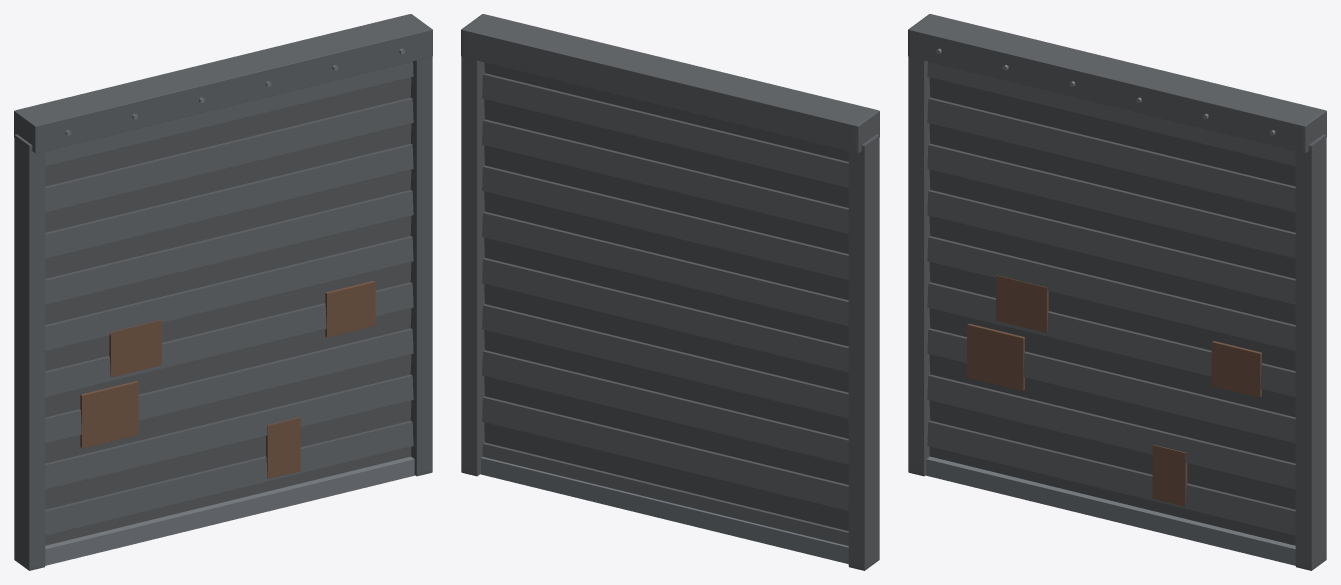
File: Ch2_Shutter.fbx
3 renders of one model, left to right at view 1: azimuth 30°, elevation 25°; view 2: azimuth 150°, elevation 25°; view 3: azimuth 330°, elevation 25°, orthographic.
Parts seen in each view (by area): view 1: Ch2_Shutter; view 2: Ch2_Shutter; view 3: Ch2_Shutter.
Boxes of the visible parts, box(x1,y1,x2,y2) form: Ch2_Shutter: box(14, 14, 432, 570); Ch2_Shutter: box(461, 14, 879, 570); Ch2_Shutter: box(908, 14, 1326, 570).
Size of the model in its own units: 2.78 by 2.94 by 0.28.
